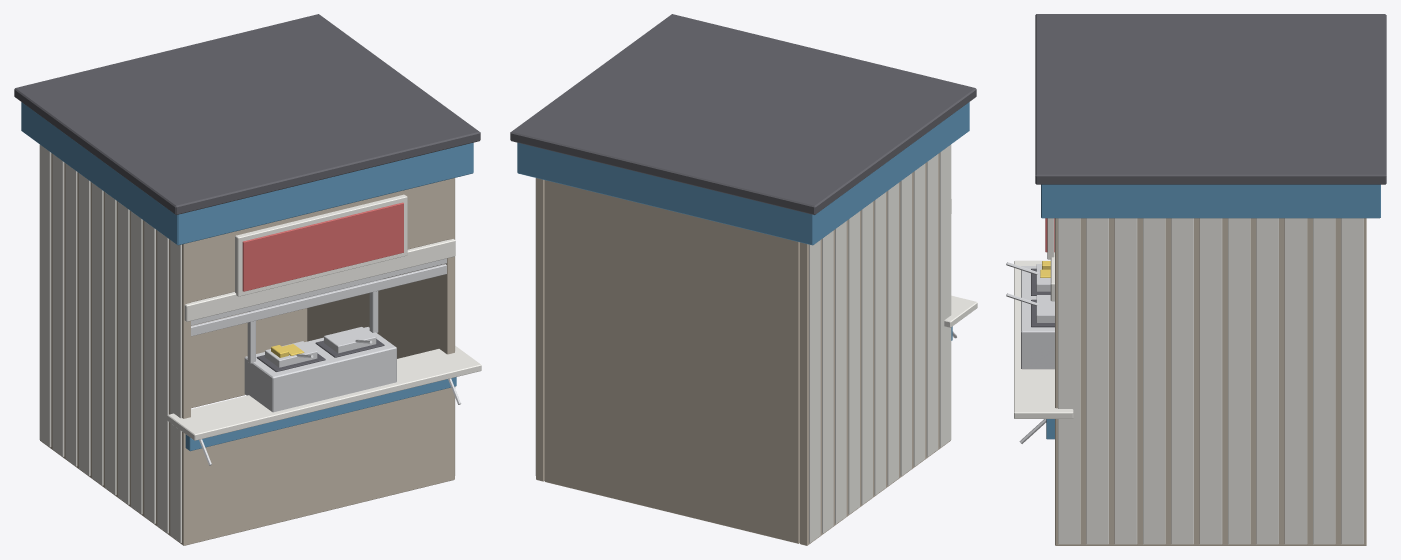
The model's file is amusement-arcade-and-seaside-pier-fish-and-chip-kiosk-51908bca__35396.glb.
3 views of the same model, side by side, from view 1: azimuth 30°, elevation 25°; view 2: azimuth 150°, elevation 25°; view 3: azimuth 270°, elevation 25° (orthographic). The views are drawn at different scales.
Visible parts, largest first — view 1: fish-and-chip-kiosk, shutter; view 2: fish-and-chip-kiosk; view 3: fish-and-chip-kiosk.
Boxes of the visible parts, <box> form: fish-and-chip-kiosk: <box>14,14,481,545</box>; shutter: <box>191,258,446,336</box>; fish-and-chip-kiosk: <box>510,14,977,545</box>; fish-and-chip-kiosk: <box>1006,14,1386,545</box>.
Bounding box in the file's own units: 2.7 × 2.96 × 2.68.
